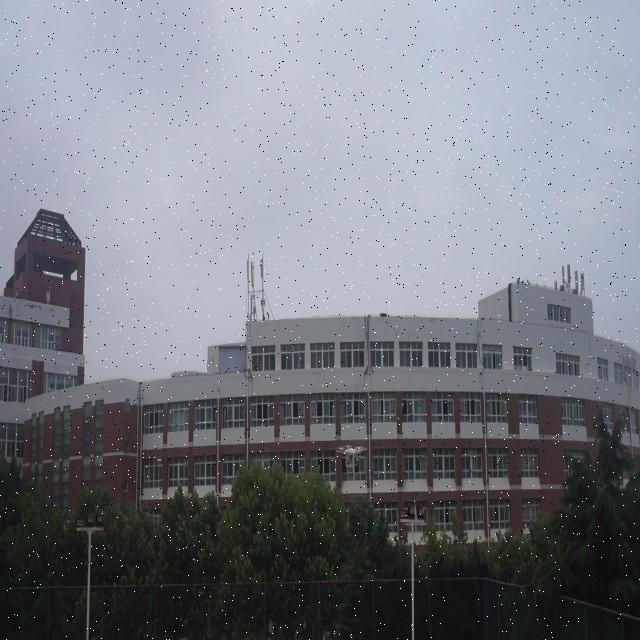UAV: (336, 445, 367, 468)
